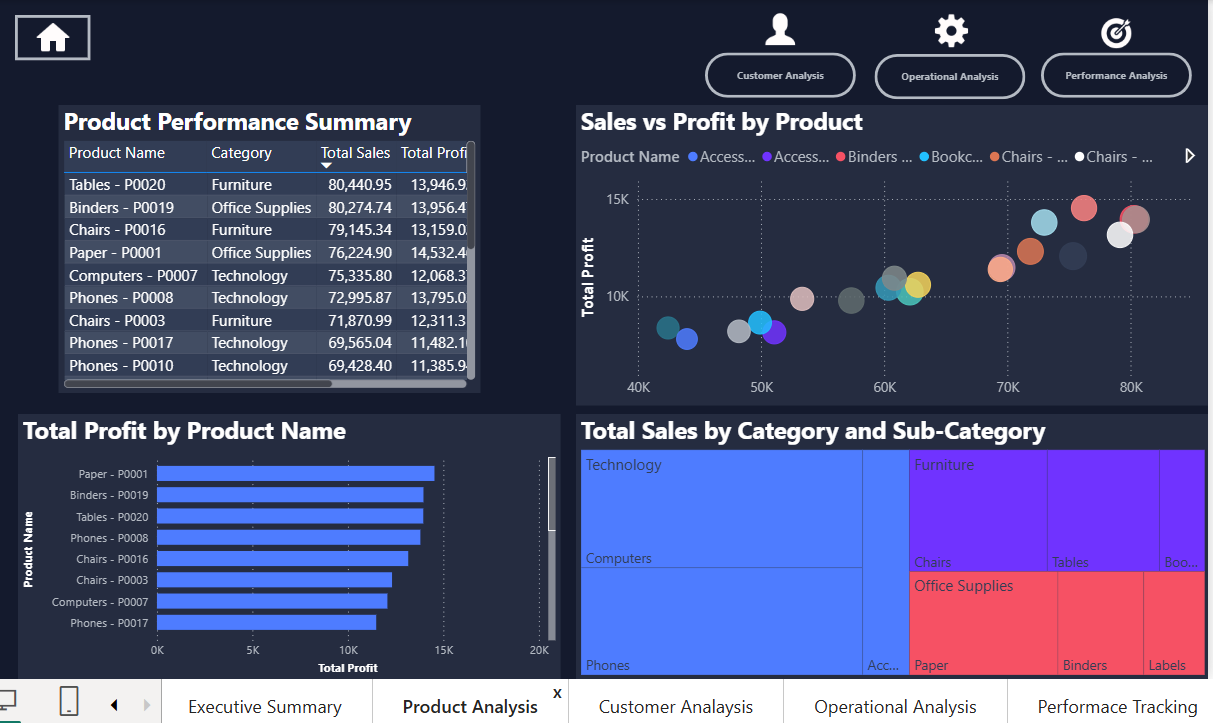

The page's visual inventory and layout, read from the dashboard file:
{"tool":"powerbi","page":{"name":"Product Analysis","canvas":[1280,720],"ordinal":1},"visuals":[{"type":"tableEx","title":"Product Performance Summary","fields":{"Values":["Products.Product Name","Products.Category","Products.Total Sales","Products.Total Profit","Products.Profit Margin","Products.Total Orders"]},"box":[61.7,111.7,446.7,305],"z":0},{"type":"scatterChart","title":"Sales vs Profit by Product","fields":{"Y":["Products.Total Profit"],"Series":["Products.Product Name"],"Size":["Sum(Products.Total Orders)"],"X":["Orders.Total Revenue"]},"box":[610,111.7,670,318.3],"z":1000},{"type":"treemap","title":"Total Sales by Category and Sub-Category","fields":{"Group":["Products.Category"],"Details":["Products.Sub-Category"],"Values":["Sum(Products.Total Sales)"]},"box":[610,438.3,671.7,281.7],"z":2000},{"type":"clusteredBarChart","title":"Total Profit by Product Name","fields":{"Category":["Products.Product Name"],"Y":["Sum(Products.Total Profit)"]},"box":[18.3,438.3,575,281.7],"z":3000},{"type":"image","box":[16,16,80,48],"z":4000},{"type":"actionButton","box":[16,16,80,48],"z":5000},{"type":"actionButton","box":[747.2,56,160,48],"z":7000},{"type":"actionButton","box":[928,57.6,160,48],"z":8000},{"type":"actionButton","box":[1104,56,160,48],"z":9000},{"type":"image","box":[984,6.4,48,52.8],"z":10000},{"type":"image","box":[1161.6,8,44.8,54.4],"z":11000},{"type":"image","box":[801.6,6.4,51.2,49.6],"z":12000}]}

Visuals, with their boxes on the page's 1280x720 design canvas (x1, y1, x2, y2). These are canvas units, not pixel positions in the 1213x723 screenshot, which may show the page scaled, cropped or inside an application window:
"Product Performance Summary" tableEx: l=62, t=112, r=508, b=417
"Sales vs Profit by Product" scatterChart: l=610, t=112, r=1280, b=430
"Total Sales by Category and Sub-Category" treemap: l=610, t=438, r=1282, b=720
"Total Profit by Product Name" clusteredBarChart: l=18, t=438, r=593, b=720
image: l=16, t=16, r=96, b=64
actionButton: l=16, t=16, r=96, b=64
actionButton: l=747, t=56, r=907, b=104
actionButton: l=928, t=58, r=1088, b=106
actionButton: l=1104, t=56, r=1264, b=104
image: l=984, t=6, r=1032, b=59
image: l=1162, t=8, r=1206, b=62
image: l=802, t=6, r=853, b=56
